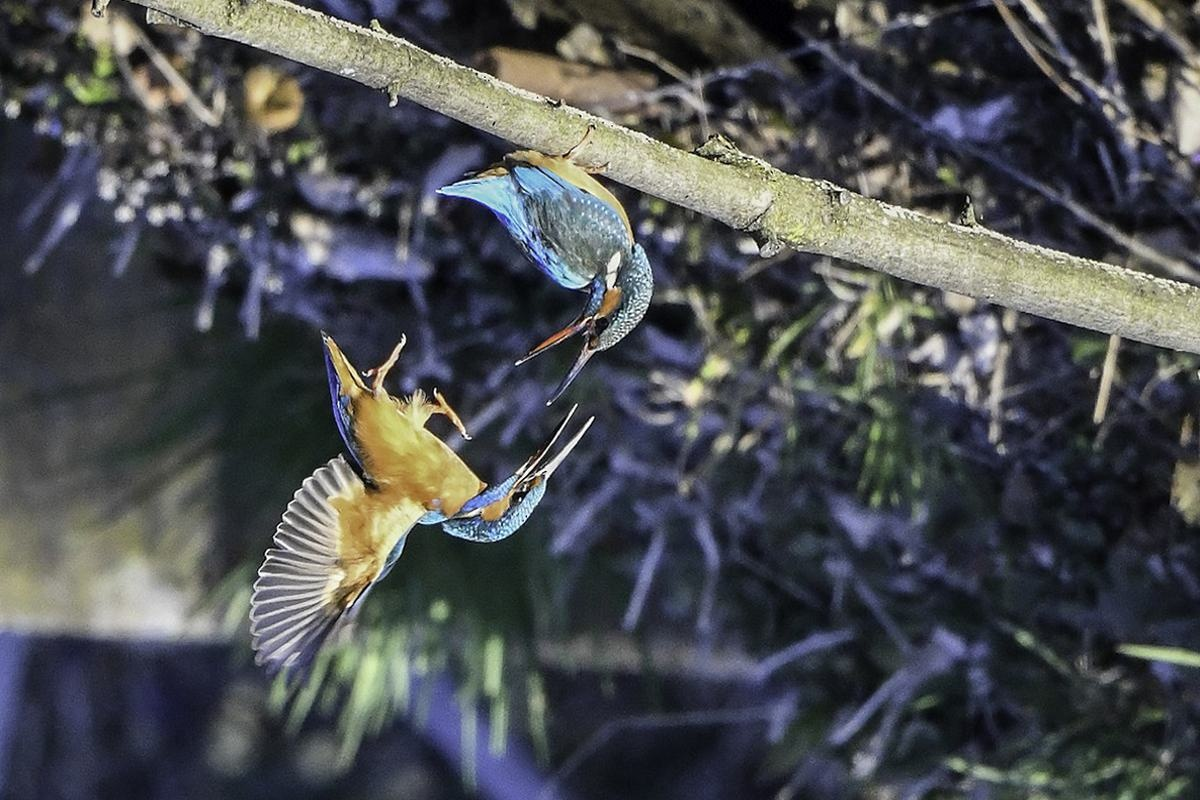kingfisher: (228, 337, 602, 679), (365, 150, 702, 403)
